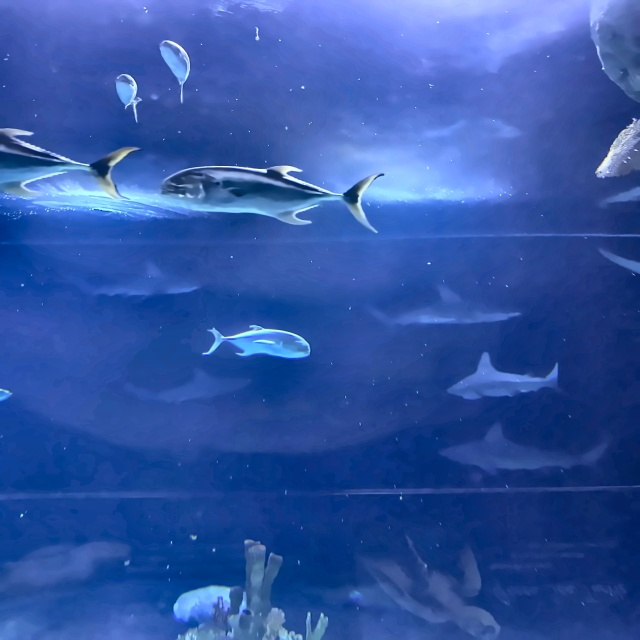fish: (162, 165, 385, 233), (0, 128, 142, 200), (203, 325, 310, 359), (160, 41, 190, 102), (116, 74, 140, 121)
shark: (442, 422, 611, 476), (370, 283, 521, 333), (449, 350, 563, 400), (77, 263, 198, 300), (127, 372, 253, 404)
